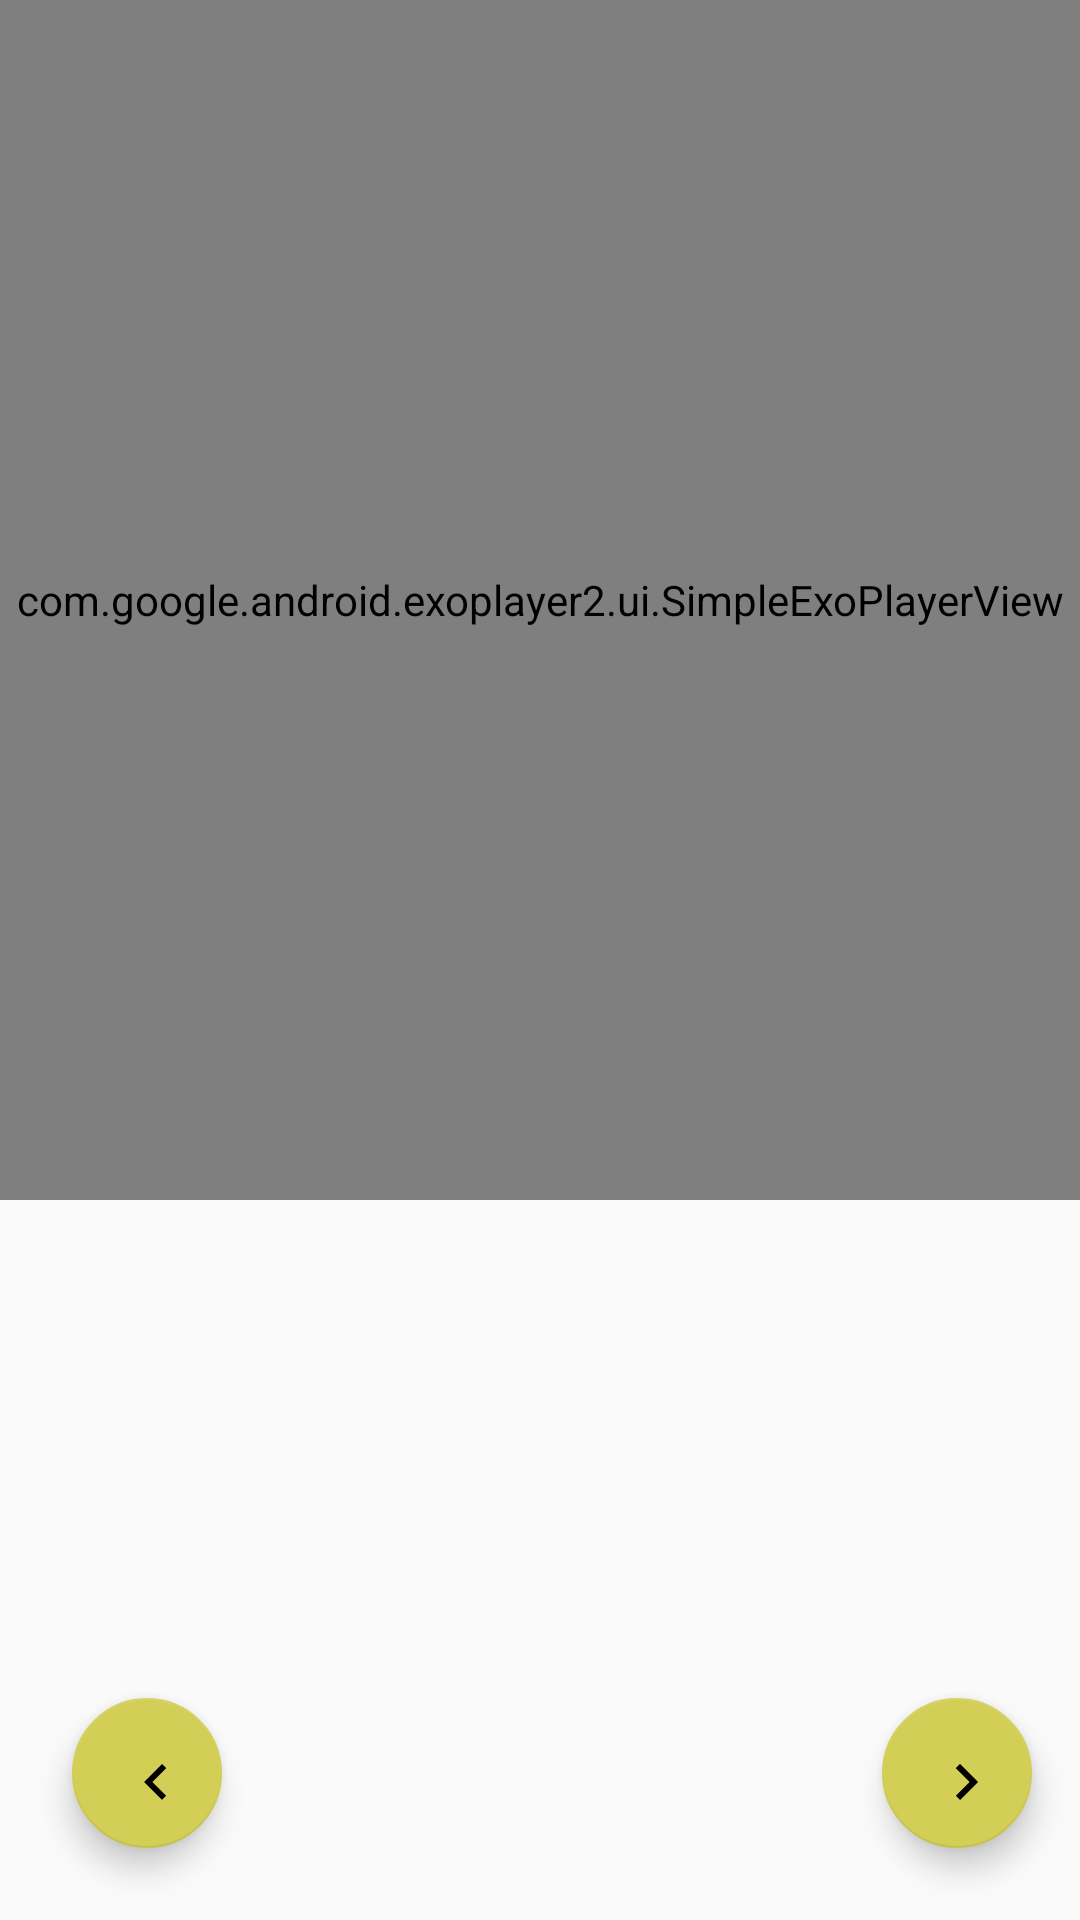

Named icons in this screenshot (1080 x 1920) and their bounding boxes, (x1, y1, x2, y2):
arrow left: (72, 1698, 222, 1848)
arrow right: (882, 1698, 1032, 1848)
